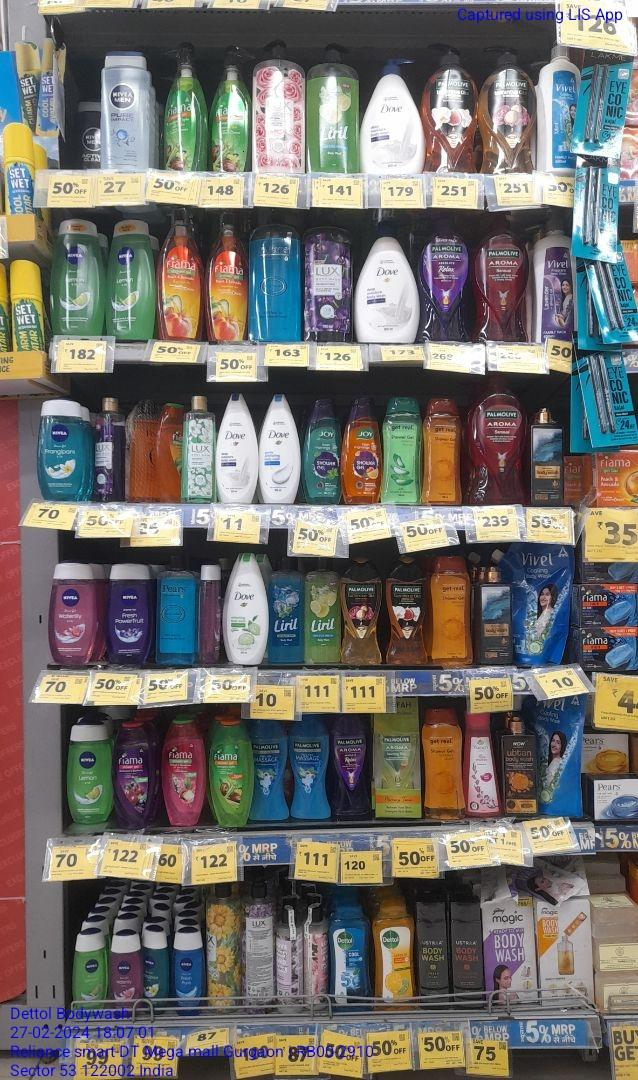Dettol_Bodywash_Cool: (331, 903, 372, 1014)
Dettol_Bodywash_Refresh: (375, 900, 416, 1014)
Dove_Deep_Moisture_Body_Wash_250ML: (219, 391, 259, 505)
Dove_Gentle_Exfoliating_Body_Wash_250ML: (260, 394, 302, 508)
Dove_Refreshing_Body_Wash_250ML: (226, 549, 267, 667)
Fiama_Shower_Gel_Lemongrass_and_Jojoba_250ML: (210, 719, 250, 830)
Fiama_Shower_Gel_Peach_and_Avocado_250ML: (163, 714, 203, 829)
Get_Real_Shower_Gel_Moisturising_Glycerin_300ML: (422, 707, 465, 824), (432, 556, 474, 667), (423, 398, 464, 506)
Joy_Shower_Gel_Mandarin_and_Lemongrass_250ML: (343, 395, 380, 506)
Joy_Shower_Gel_Mint_and_Eucalyptus_250ML: (306, 397, 342, 506)
Liril_Cooling_Mint_Body_Wash_250ML: (270, 556, 304, 665)
Liril_Lime_and_Tea_Tree_Oil_Body_Wash_250ML: (306, 556, 340, 669)
Lux_Black_Orchid_Scent_and_Juniper_Oil_Body_Wash_245ML: (93, 398, 122, 505)
Lux_Body_Wash_Skin_Detox_Freesia_Scent_and_Alove_Vera_245ML: (184, 393, 216, 506)
Nivea_Shower_Gel_Frangipani_and_Oil_250ML: (37, 397, 87, 502)
Nivea_Shower_Gel_Fresh_Powerfruit_250ML: (112, 560, 152, 664)
Nivea_Shower_Gel_Lemon_and_Oil_250ML: (52, 218, 103, 337), (106, 218, 153, 343), (68, 722, 108, 823), (74, 931, 108, 1017)
Nivea_Shower_Gel_Waterlily_and_Oil_250ML: (49, 563, 99, 663), (111, 931, 143, 1015)
Palmolive_Aroma_Moments_Feel_The_Massage_Shower_Gel_250ML: (290, 715, 330, 821), (252, 719, 289, 824)
Palmolive_Aroma_Relax_250ML: (333, 713, 372, 821)
Palmolive_Luminous_Oils_Invigorating_Macadamia_Oil_With_Peony_250ML: (343, 557, 381, 667)
Palmolive_Luminous_Oils_With_White_Orchid_Shower_Gel_250ML: (389, 558, 428, 668)
Pears_Pure_Glycerin_and_Mint_Extracts_Body_Wash_250ML: (158, 552, 199, 669)
